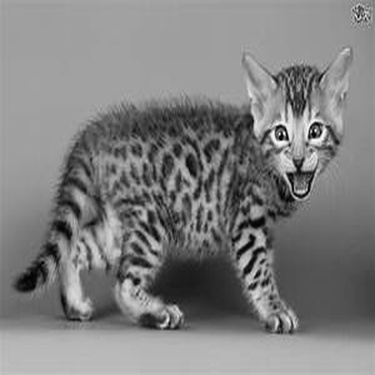cat: (9, 44, 352, 335)
